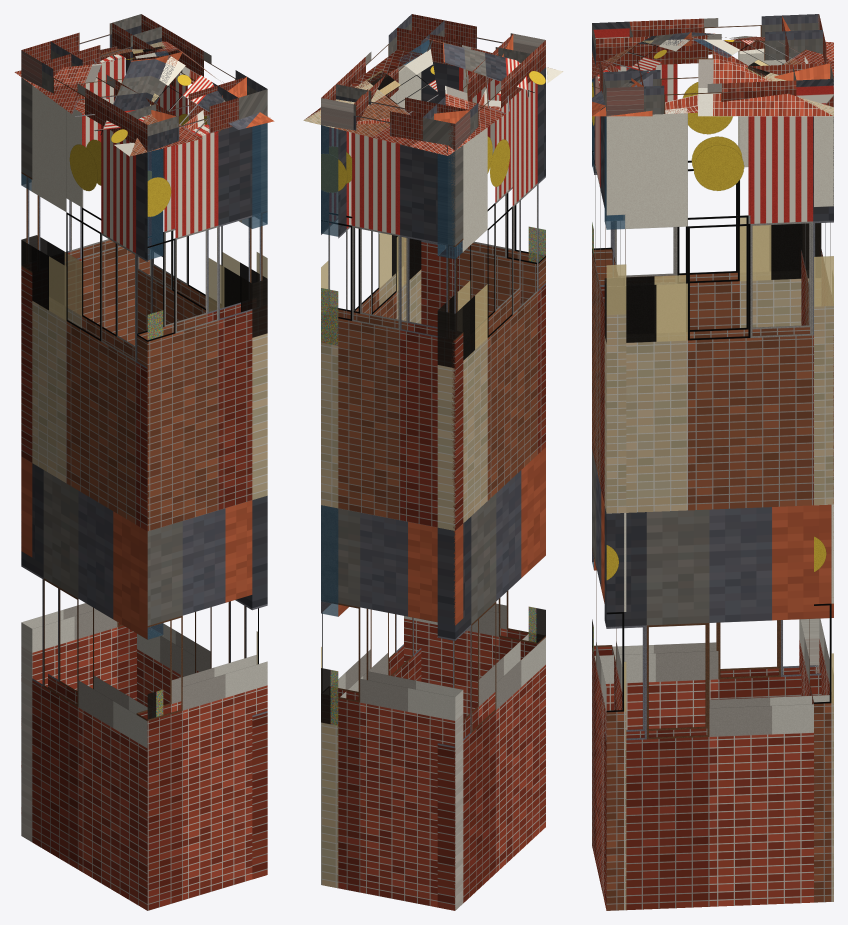
The picture shows the model from 3 angles, left to right: view 1: azimuth 30°, elevation 25°; view 2: azimuth 150°, elevation 25°; view 3: azimuth 270°, elevation 25°; orthographic projection. The views are drawn at different scales.
Parts seen in each view (by area): view 1: 238531847__wall_2_xb, 238531847__wall_3_xb, 238531847__wall_1_xb, 238531847__wall_0_xb, 238531847__wall_2_xf, 238531847__wall_0_xf, 238531847_roof_left_xb, 238531847__cornice_0, 238531847__cornice_1, 238531847__cornice_3, 238531847__cornice_2, 238531847_roof_front_xb; view 2: 238531847__wall_1_xb, 238531847__wall_2_xb, 238531847__wall_0_xb, 238531847__wall_3_xb, 238531847__wall_0_xf, 238531847__wall_2_xf, 238531847__cornice_2, 238531847_roof_back_xb, 238531847_roof_left_xb, 238531847__cornice_1, 238531847__cornice_0, 238531847__cornice_3 (+1 smaller); view 3: 238531847__wall_0_xb, 238531847__wall_2_xb, 238531847__wall_3_xb, 238531847__wall_1_xb, 238531847__cornice_2, 238531847_roof_right_xb, 238531847__wall_0_xf, 238531847__cornice_0, 238531847__wall_2_xf, 238531847__cornice_3, 238531847_roof_back_xb, 238531847_roof_front_xb (+4 smaller).
Boxes of the visible parts, x1,y1,x2,y2 form: 238531847__wall_2_xb: (21,85,163,910); 238531847__wall_3_xb: (136,123,267,910); 238531847__wall_1_xb: (21,54,151,841); 238531847__wall_0_xb: (125,58,267,879); 238531847__wall_2_xf: (21,149,162,718); 238531847__wall_0_xf: (209,123,267,336); 238531847_roof_left_xb: (14,52,182,156); 238531847__cornice_0: (112,14,267,119); 238531847__cornice_1: (21,14,161,87); 238531847__cornice_3: (127,77,246,151); 238531847__cornice_2: (21,41,176,151); 238531847_roof_front_xb: (130,55,274,156); 238531847__wall_1_xb: (321,133,463,910); 238531847__wall_2_xb: (437,67,545,910); 238531847__wall_0_xb: (321,59,421,888); 238531847__wall_3_xb: (404,62,545,719); 238531847__wall_0_xf: (321,125,420,725); 238531847__wall_2_xf: (438,152,545,642); 238531847__cornice_2: (422,33,545,150); 238531847_roof_back_xb: (303,40,447,155); 238531847_roof_left_xb: (433,40,563,155); 238531847__cornice_1: (336,84,470,150); 238531847__cornice_0: (321,14,444,130); 238531847__cornice_3: (397,14,530,66); 238531847__wall_0_xb: (604,107,833,910); 238531847__wall_2_xb: (592,48,821,729); 238531847__wall_3_xb: (592,66,626,910); 238531847__wall_1_xb: (799,116,833,902); 238531847__cornice_2: (595,14,822,66); 238531847_roof_right_xb: (592,37,832,116); 238531847__wall_0_xf: (605,116,693,342); 238531847__cornice_0: (603,63,833,115); 238531847__wall_2_xf: (592,79,820,650); 238531847__cornice_3: (592,21,643,116); 238531847_roof_back_xb: (693,39,833,116); 238531847_roof_front_xb: (592,39,690,115).
Bounding box in the file's own units: 0.1399 × 0.742 × 0.1931.
Materials: 1 (1 with a texture image).
